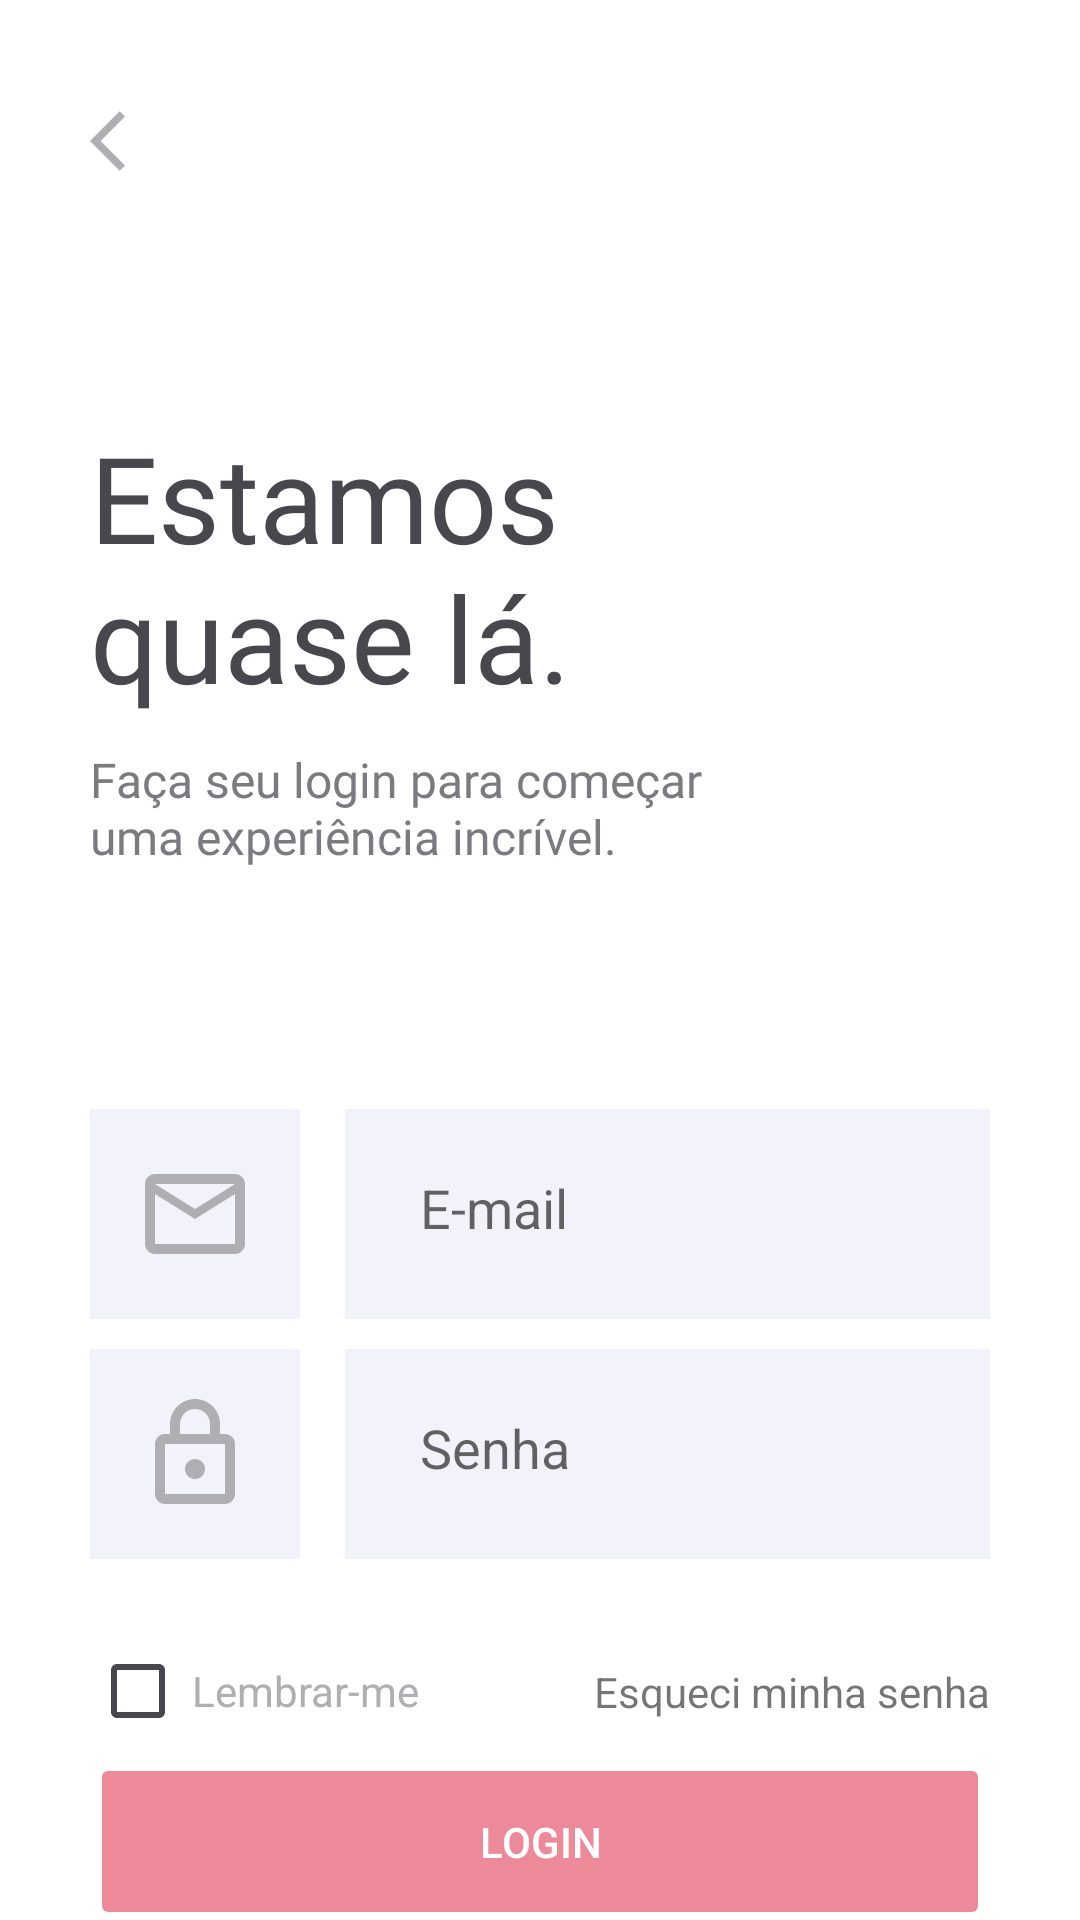

Named icons in this screenshot (1080*1920) and their bounding boxes, (x1, y1, x2, y2):
chevron left: (90, 111, 125, 171)
lock: (155, 1399, 235, 1504)
